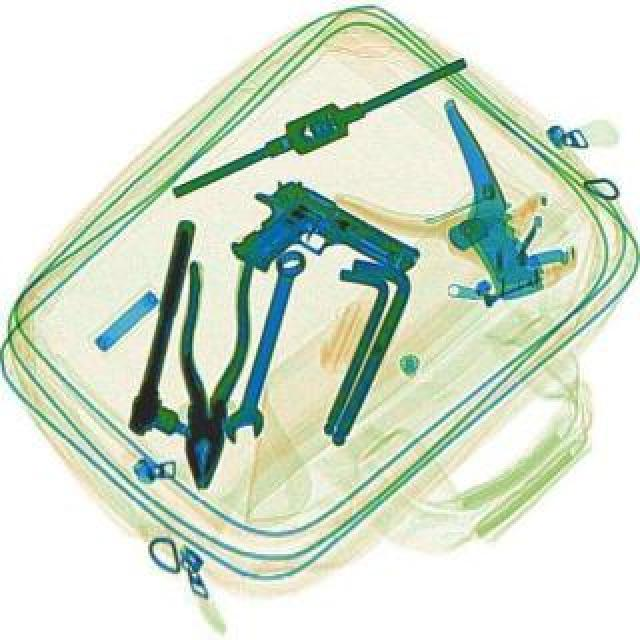gun: (216, 166, 424, 334)
scissors: (218, 250, 310, 452)
wrench: (164, 260, 258, 496)
